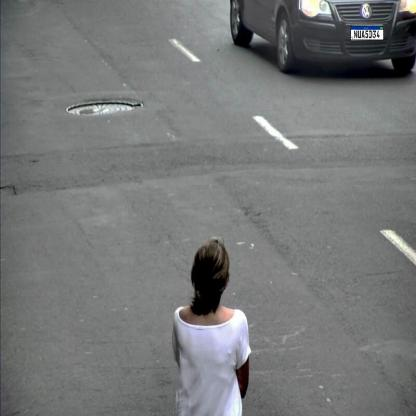PlacaM: (350, 26, 384, 40)
